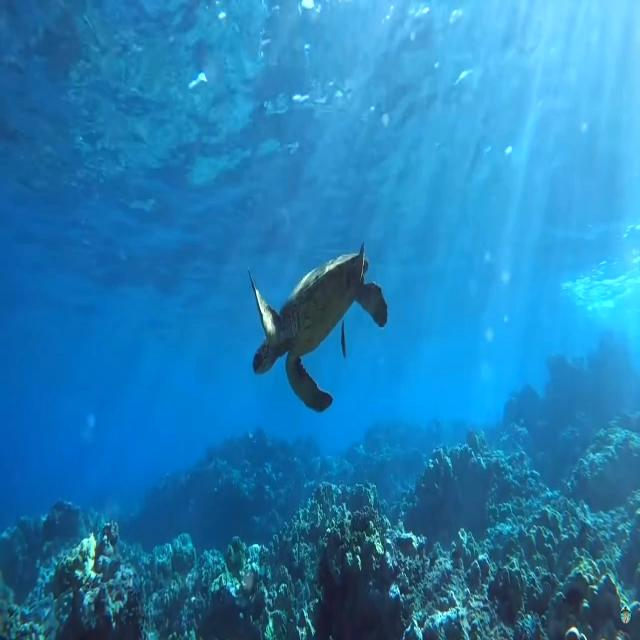Sea turtle: (247, 245, 389, 415)
